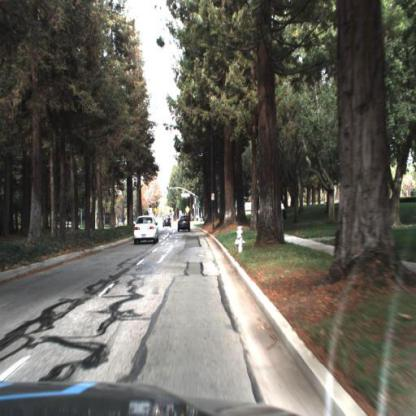car: (135, 214, 160, 245), (177, 213, 193, 233), (62, 222, 81, 232), (163, 215, 173, 229)
